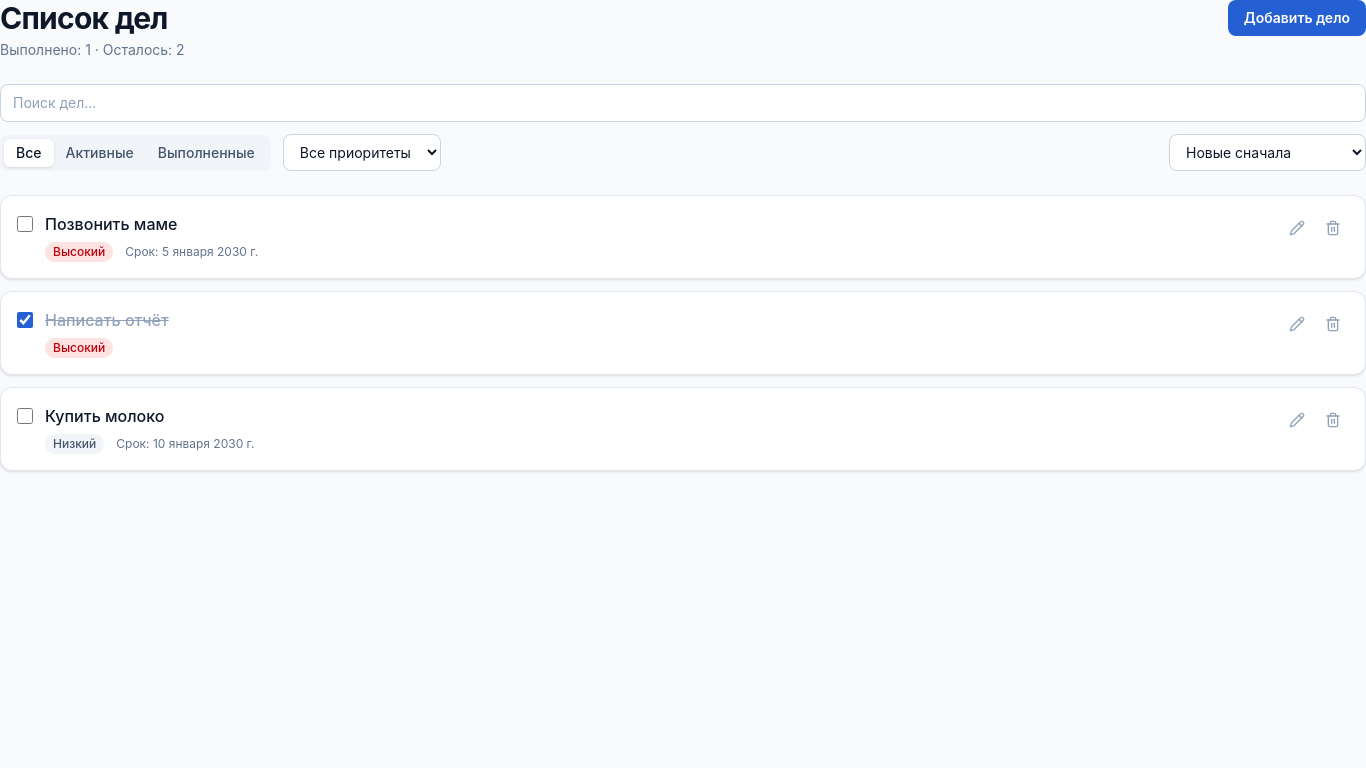
TasksPage › editing › opens the form with current values and saves changes
Expected: the heading "Список дел" is shown, x1=0 y1=0 x2=185 y2=36
Click the button named "Редактировать: Купить молоко". click: (1297, 420)
box: x1=1281 y1=404 x2=1313 y2=436
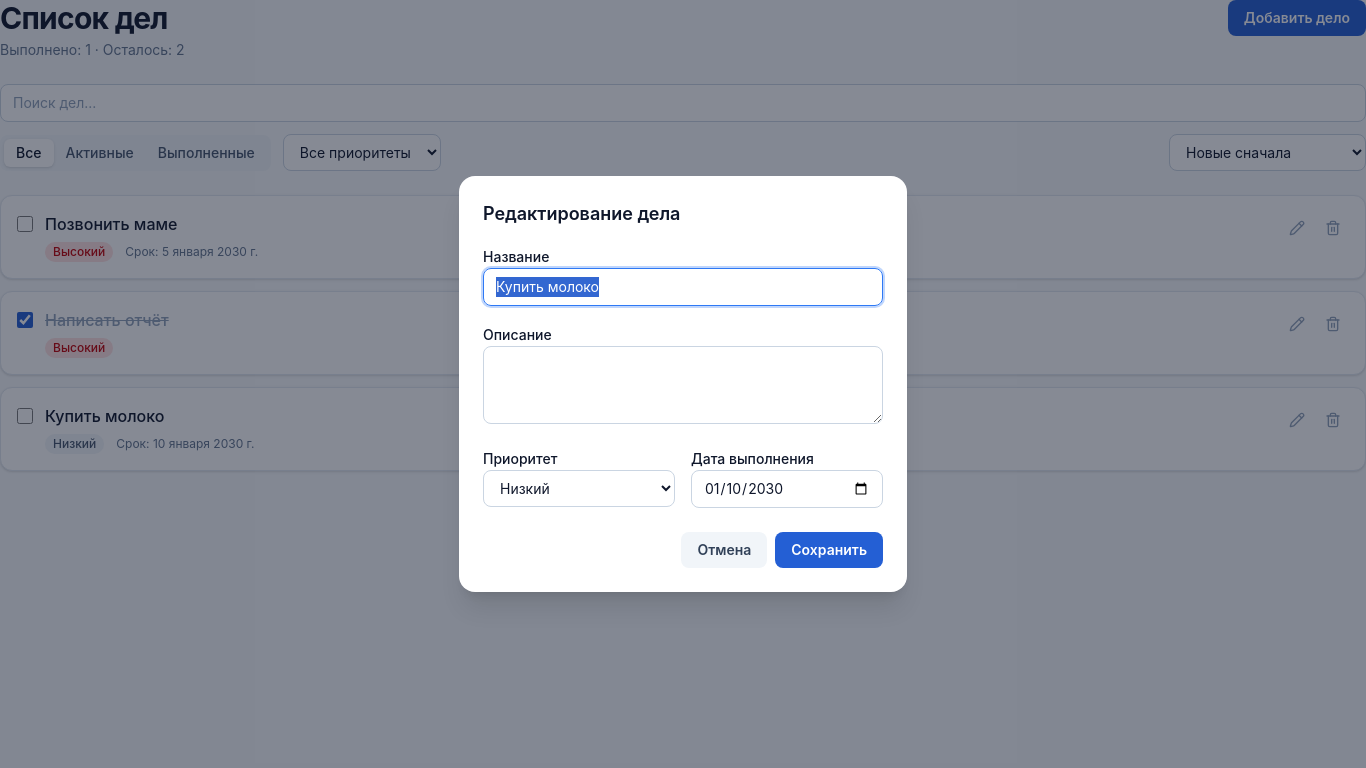
Expected: the field labelled "Название" holds "Купить молоко"
Expected: the dropdown labelled "Приоритет" shows "Низкий", x1=483 y1=470 x2=675 y2=507
Expected: the date field labelled "Дата выполнения" holds "2030-01-10", x1=691 y1=470 x2=883 y2=508
Replace the text in the field labelled "Название" with "Купить кефир". click: (683, 287)
box: x1=483 y1=268 x2=883 y2=306
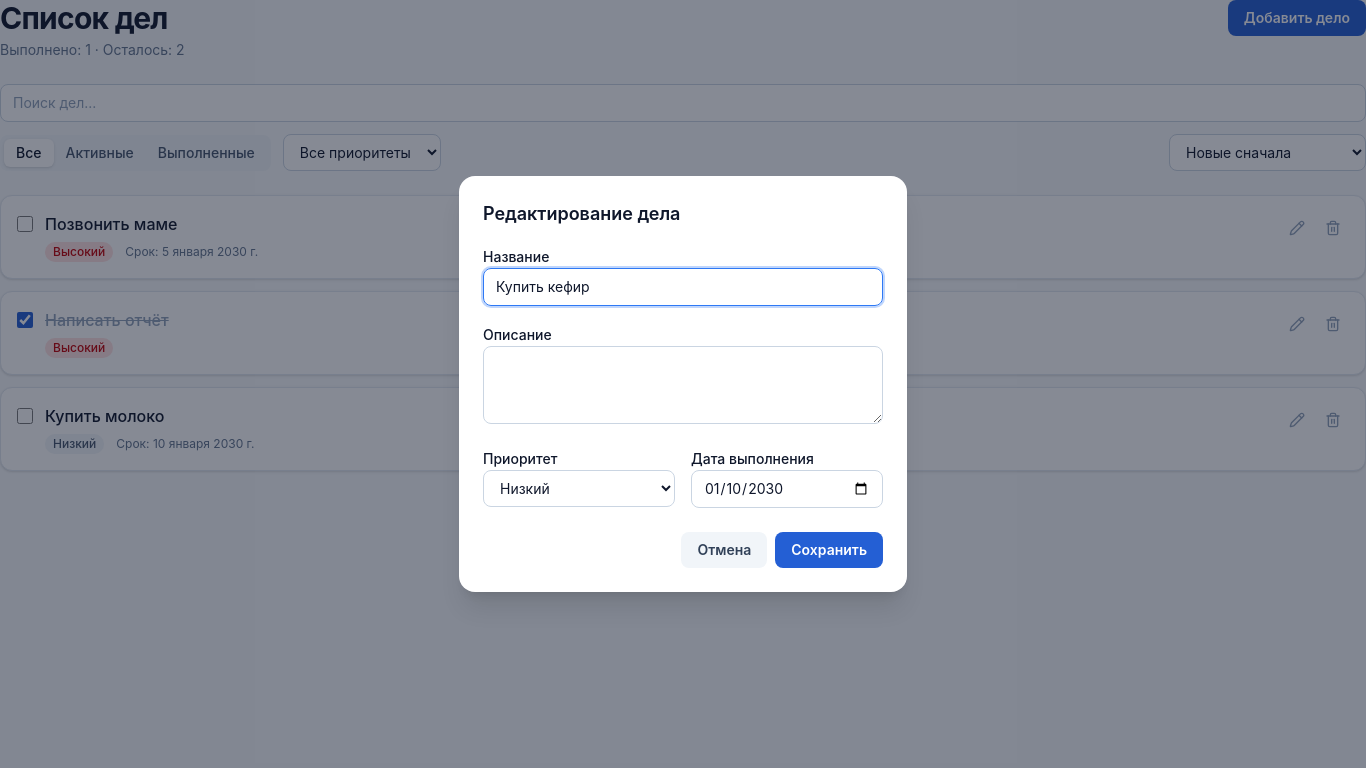
Select "Средний" in the dropdown labelled "Приоритет". click: (579, 488)
box: x1=483 y1=470 x2=675 y2=507
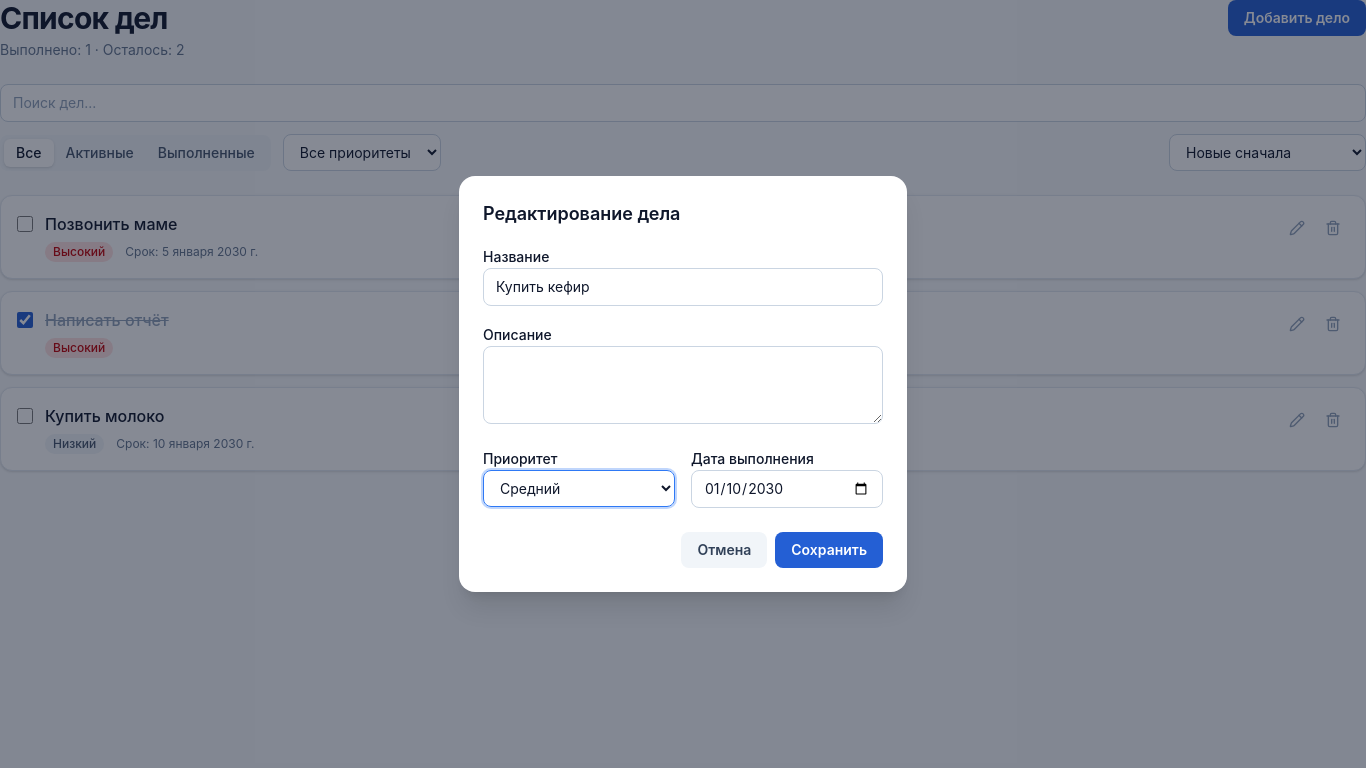
Click the button "Сохранить". click: (829, 550)
box: x1=775 y1=532 x2=883 y2=568
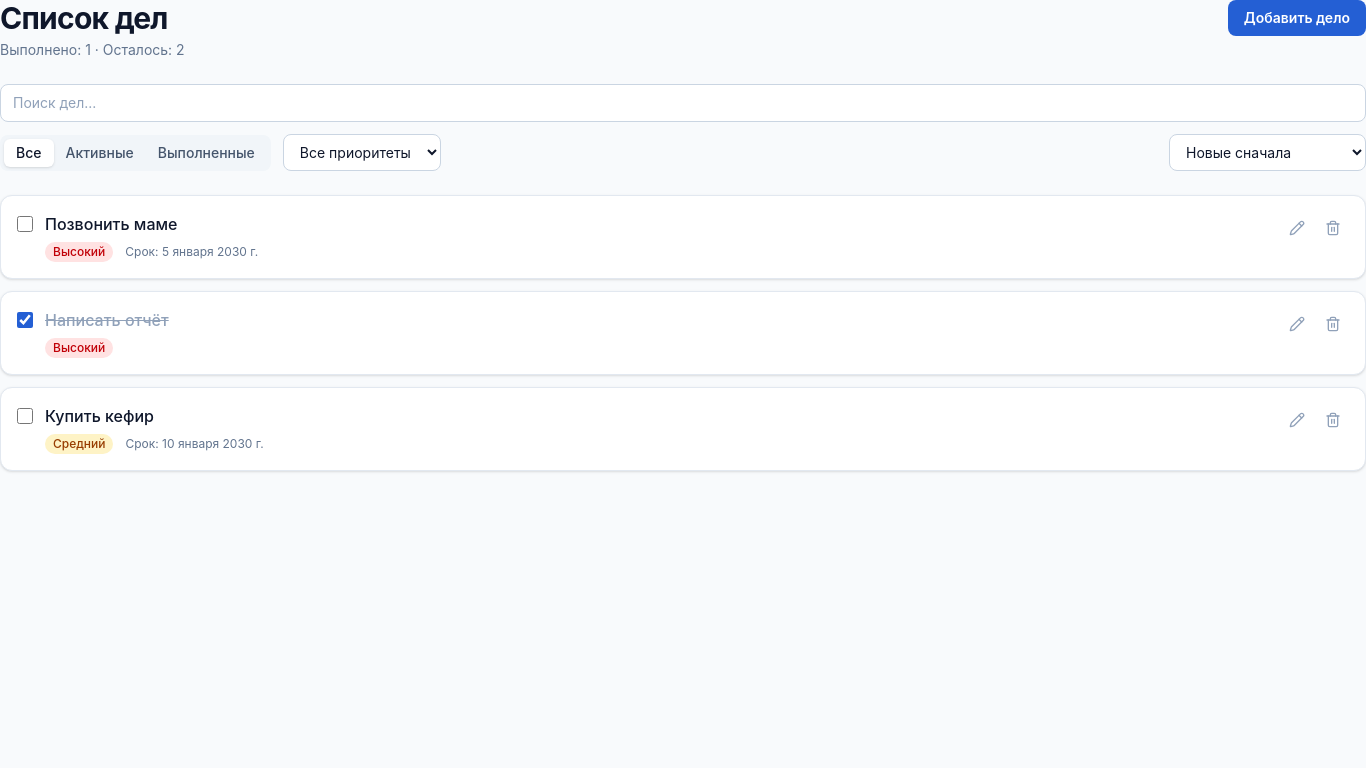
Expected: the checkbox named "Купить кефир" is shown, x1=17 y1=408 x2=33 y2=424
Expected: the text "Купить молоко" is gone
Expected: the text "Средний" is shown, x1=45 y1=434 x2=114 y2=454
